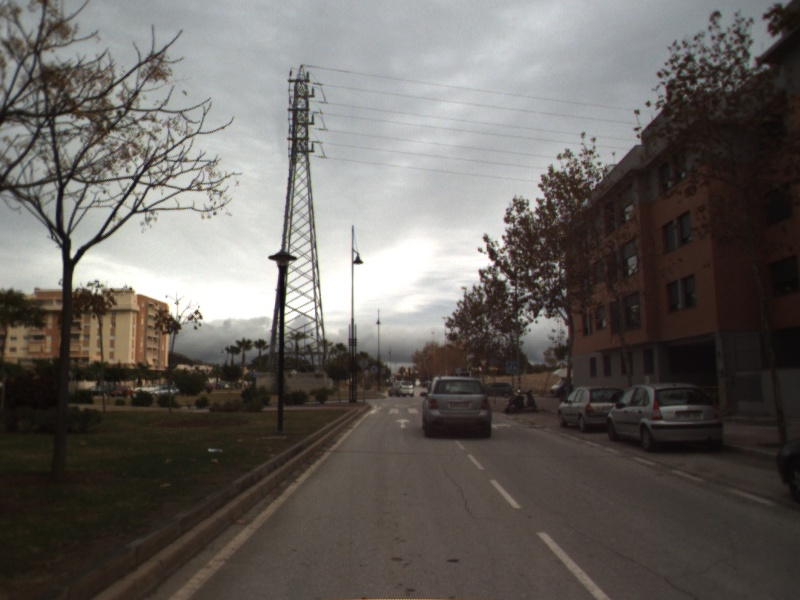STRAIGHT: (393, 416, 413, 430)
